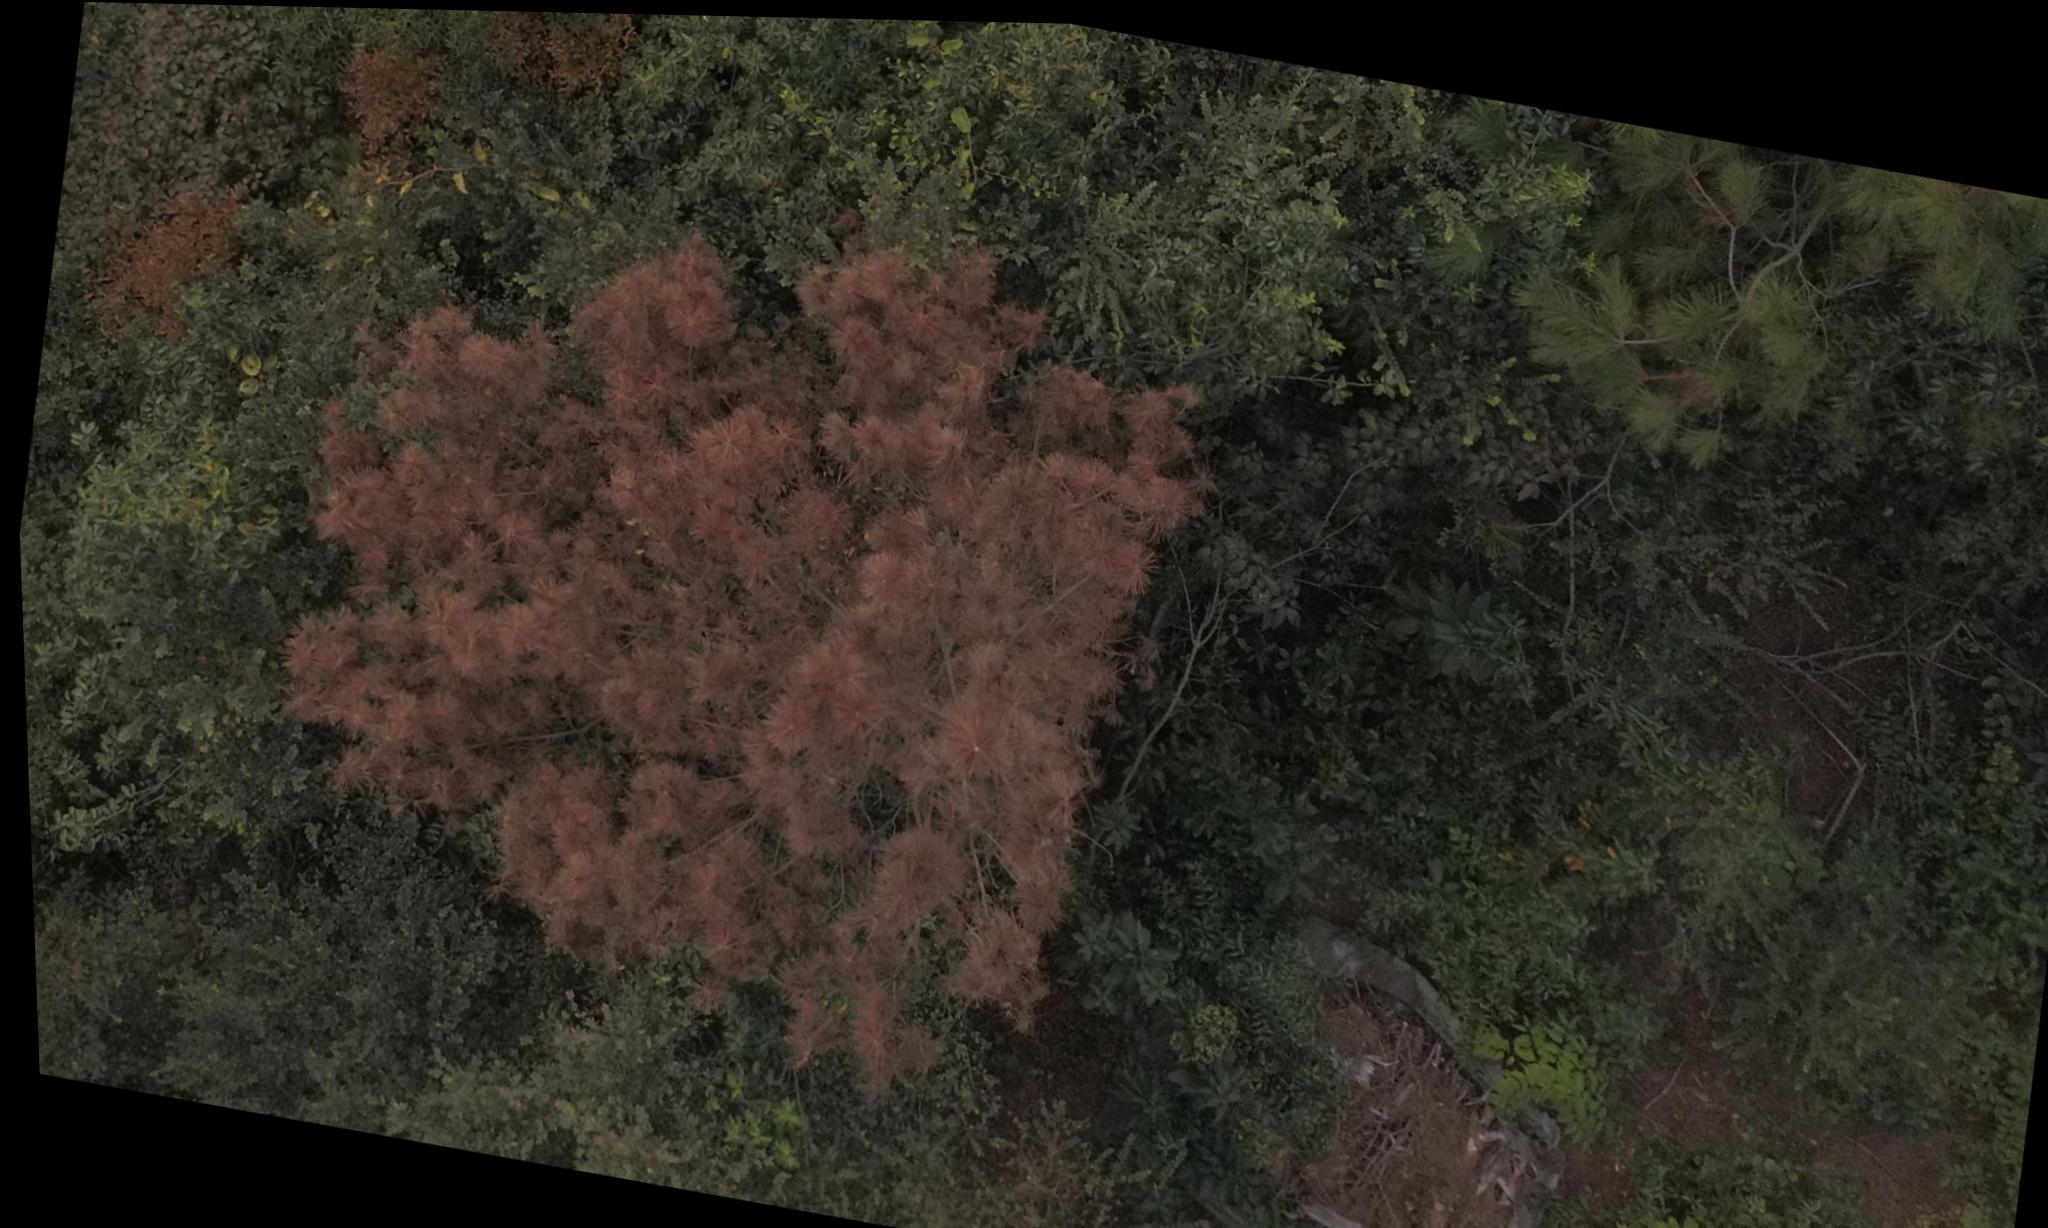heavy: (238, 127, 1231, 1126)
